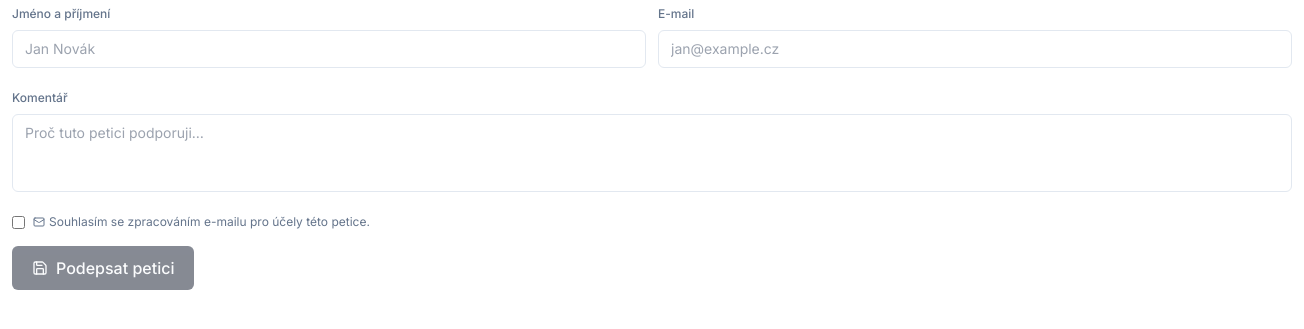
Test: PetitionSignFormRHF › shows validation error for empty jmeno on blur
This screenshot has width=1304, height=329.
Click the field named "jmeno".
click(329, 49)  # box [12,30,646,68]
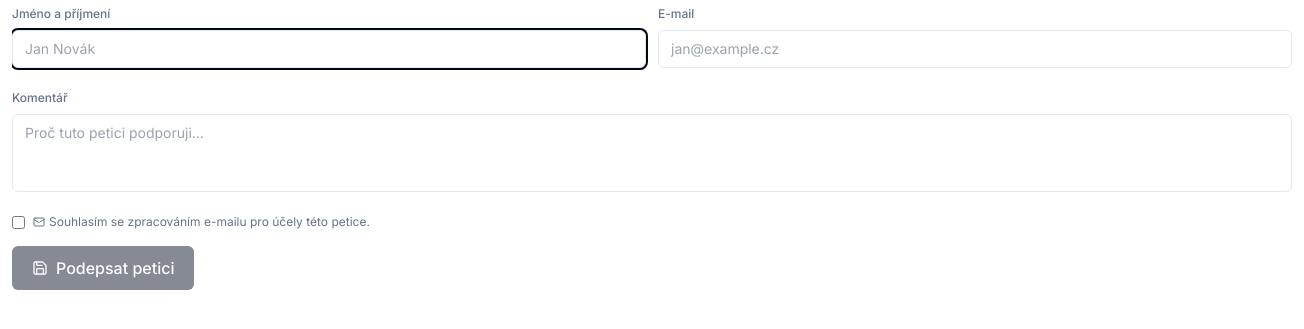
Press Tab
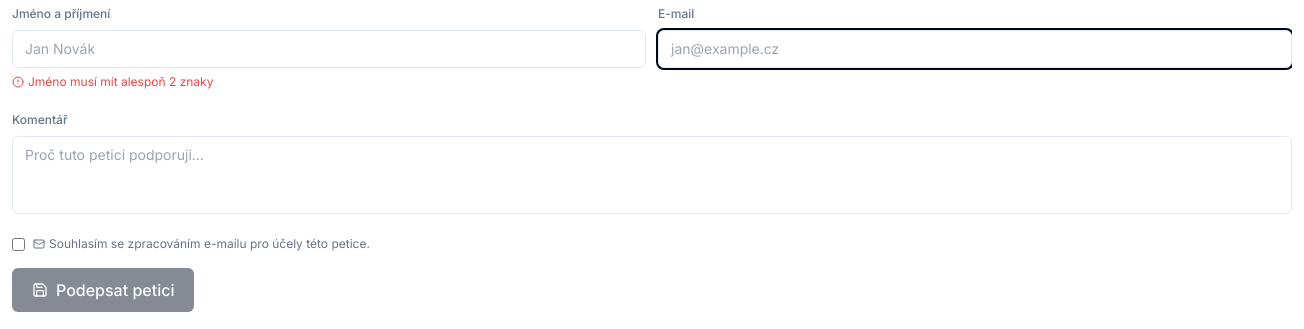
Check: the text "Jméno musí mít alespoň 2 znaky" is shown, box [12,74,213,89]
